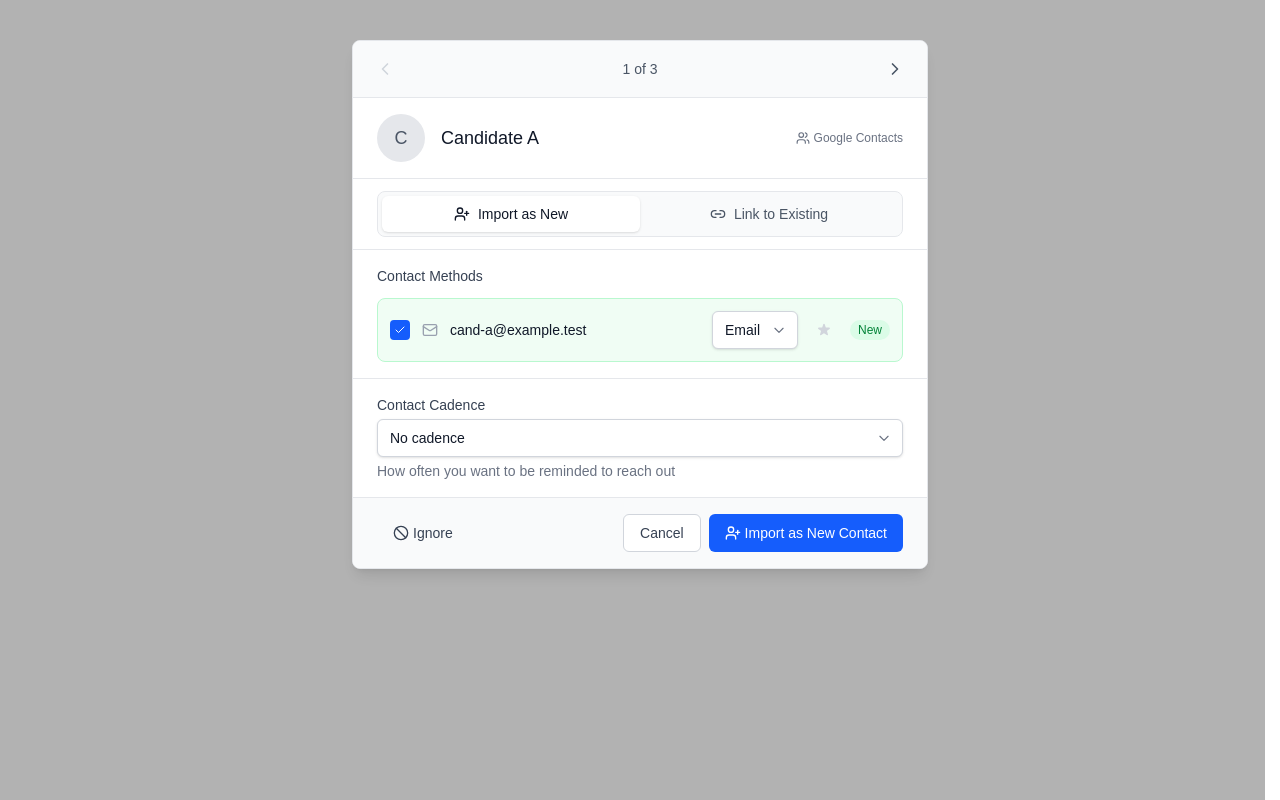
ContactCandidateResolver candidate tracking › navigates to the adjacent candidate with the pager
Expected: the heading "Candidate A" is shown, [441,128,539,148]
Click the button named "Next candidate": (895, 69) [879,53,911,85]
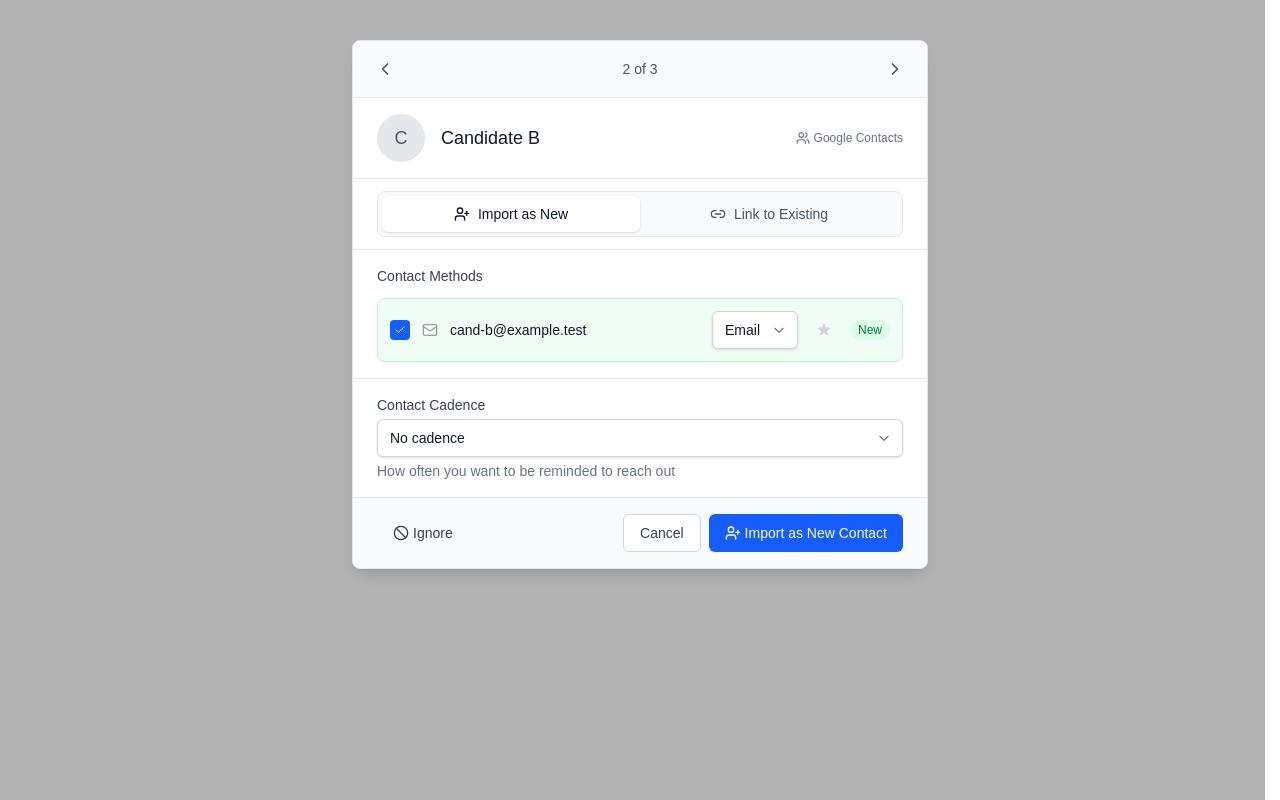
Expected: the text "2 of 3" is shown, [622,59,658,79]
Expected: the heading "Candidate B" is shown, [441,128,540,148]
